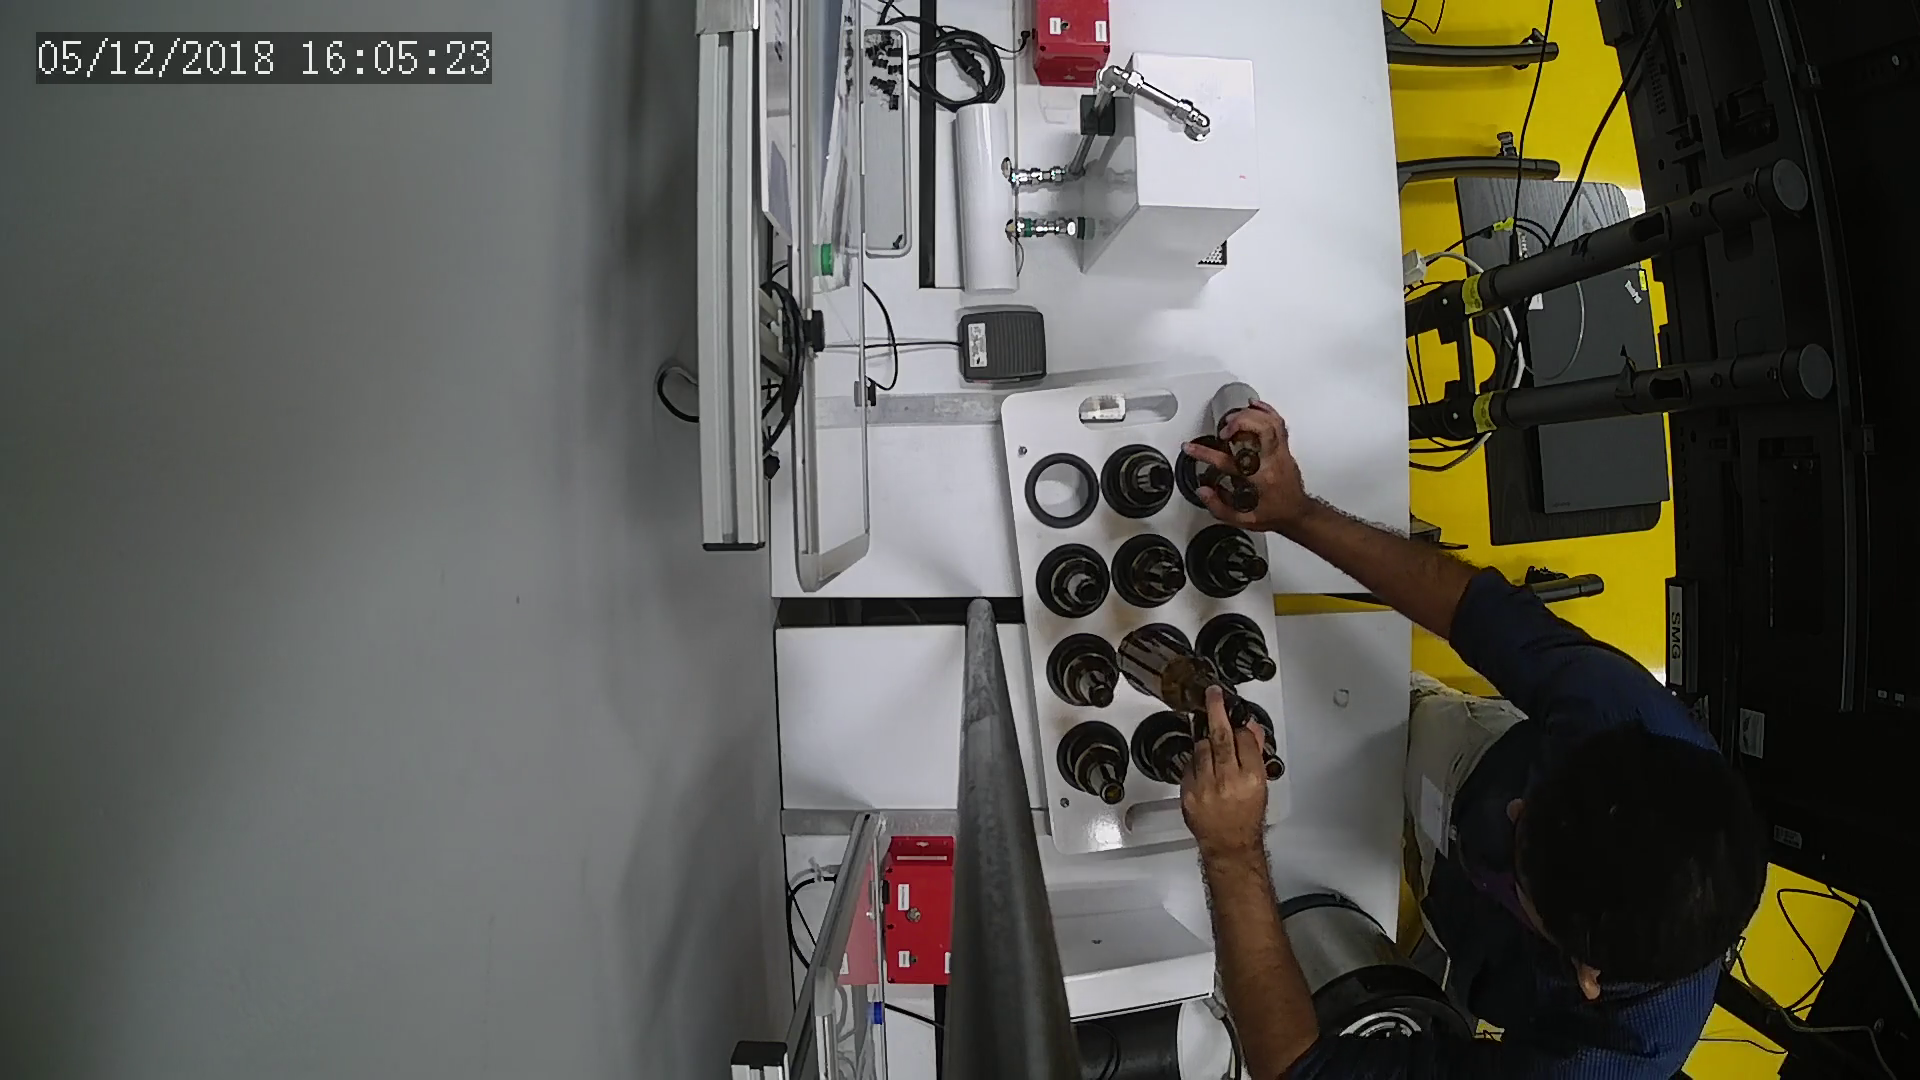filled_bottle: (1039, 626, 1124, 720), (1054, 715, 1131, 811), (1195, 611, 1284, 694), (1104, 530, 1189, 615), (1183, 524, 1270, 605), (1031, 543, 1110, 624), (1101, 443, 1176, 524), (1133, 703, 1197, 795), (1228, 702, 1287, 791)
trolley: (1000, 368, 1304, 861)
